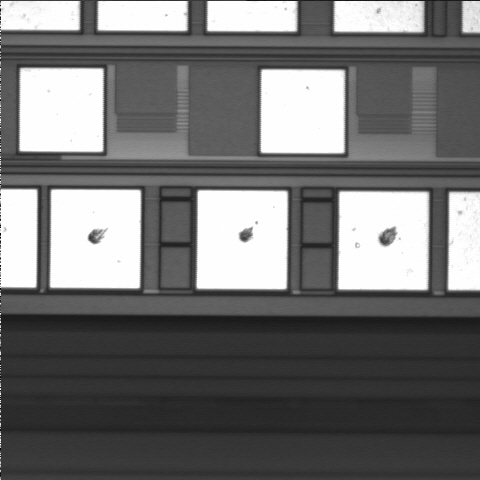pad: (50, 190, 141, 288), (197, 190, 287, 289), (338, 192, 428, 290), (20, 68, 103, 152), (261, 70, 344, 153)
